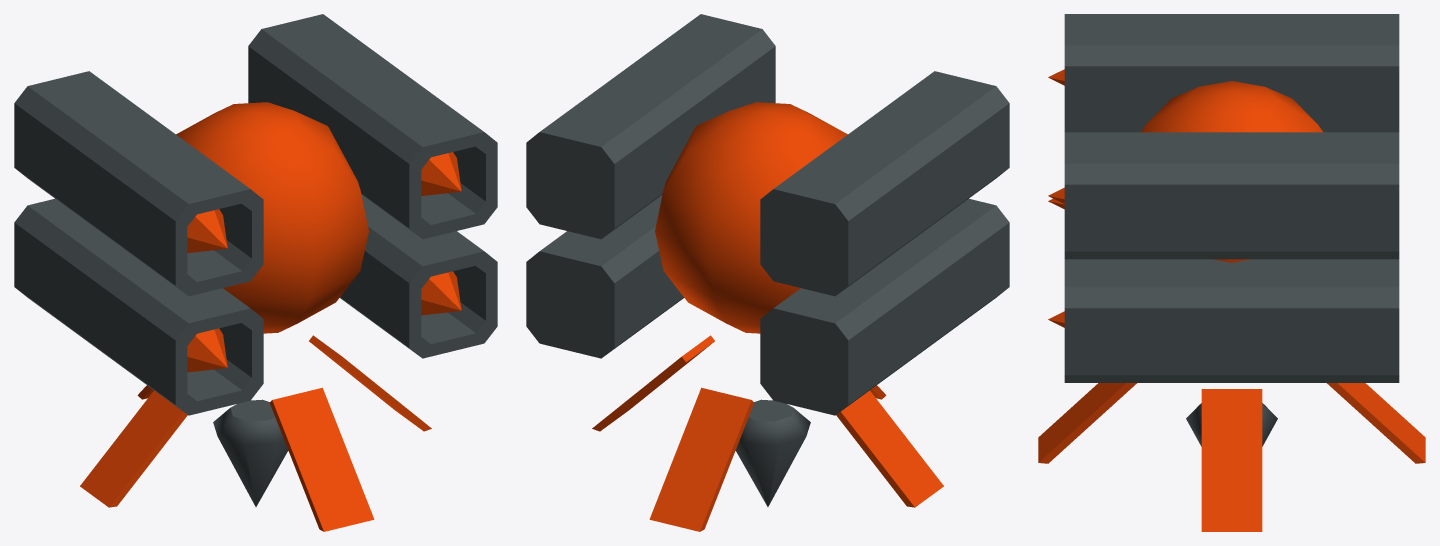
Rendered from SAM.fbx.
The picture shows the model from 3 angles, left to right: view 1: azimuth 30°, elevation 25°; view 2: azimuth 150°, elevation 25°; view 3: azimuth 270°, elevation 25°; orthographic projection. The views are drawn at different scales.
Parts seen in each view (by area): view 1: pasted__pCube1 (×4), pasted__pSphere1, pasted__pCube3 (×3), pasted__pasted__pCone2 (×4), pasted__pCone1; view 2: pasted__pCube1 (×4), pasted__pSphere1, pasted__pCube3 (×3), pasted__pCone1; view 3: pasted__pCube1 (×3), pasted__pCube3 (×3), pasted__pSphere1, pasted__pCone1.
Boxes of the visible parts, x1,y1,x2,y2 form: pasted__pCube1 (×4): (14, 14, 497, 415); pasted__pSphere1: (176, 102, 368, 333); pasted__pCube3 (×3): (80, 335, 431, 531); pasted__pasted__pCone2 (×4): (187, 152, 461, 372); pasted__pCone1: (213, 399, 288, 506); pasted__pCube1 (×4): (526, 14, 1009, 415); pasted__pSphere1: (655, 102, 847, 333); pasted__pCube3 (×3): (592, 335, 943, 531); pasted__pCone1: (735, 399, 810, 506); pasted__pCube1 (×3): (1064, 14, 1399, 382); pasted__pCube3 (×3): (1038, 383, 1425, 531); pasted__pSphere1: (1140, 81, 1323, 262); pasted__pCone1: (1186, 403, 1277, 446).
Size of the model in its own units: 3.67 by 4.32 by 3.67.
